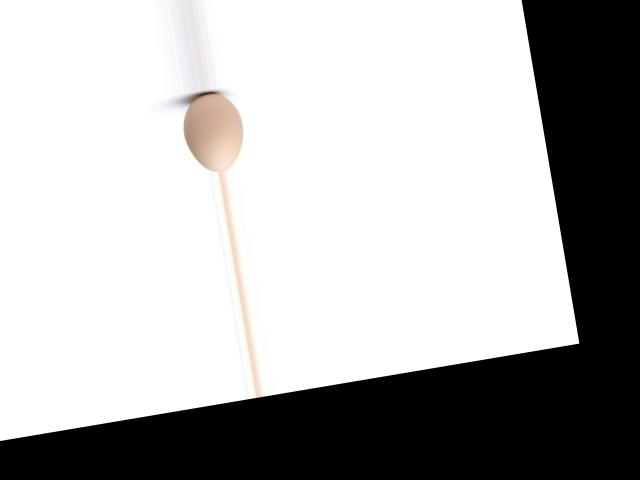egg: (178, 88, 249, 175)
